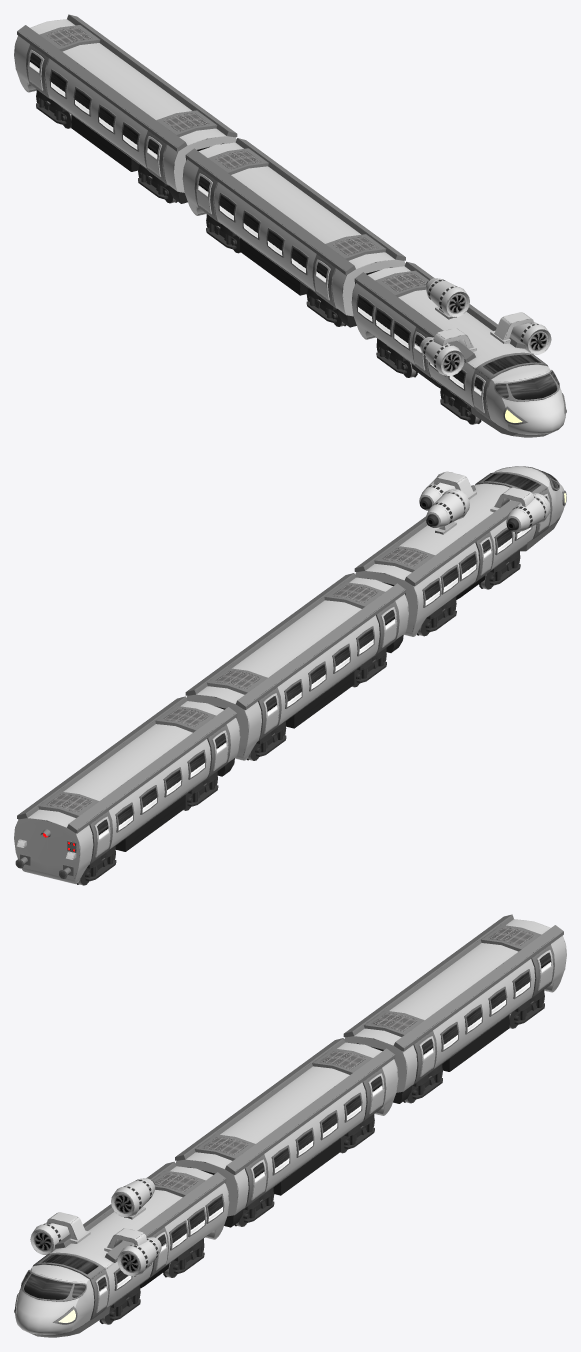
Rendered from bullet.glb.
The picture shows the model from 3 angles, top to bottom: view 1: azimuth 30°, elevation 25°; view 2: azimuth 150°, elevation 25°; view 3: azimuth 330°, elevation 25°; orthographic projection.
Parts seen in each view (by area): view 1: Bullet.1; view 2: Bullet.1; view 3: Bullet.1.
Boxes of the visible parts, <box> form: Bullet.1: <box>14,14,566,437</box>; Bullet.1: <box>14,466,566,885</box>; Bullet.1: <box>14,914,566,1337</box>.
Bounding box in the file's own units: 0.1142 × 0.1006 × 0.8918.
Materials: 1 (1 with a texture image).
